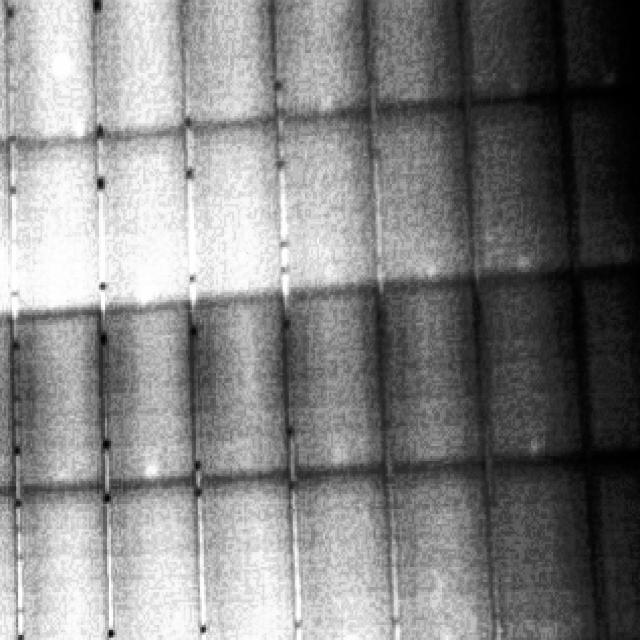Hotspots: (0, 237, 8, 270)
PV-modules: (474, 264, 596, 458), (378, 272, 494, 466), (390, 456, 502, 640), (288, 288, 396, 475), (283, 107, 391, 290), (186, 300, 290, 482), (297, 466, 404, 640), (190, 128, 290, 307), (105, 308, 204, 485), (102, 132, 199, 308), (194, 471, 295, 640), (109, 476, 208, 640), (14, 314, 107, 488), (11, 149, 104, 320), (16, 478, 109, 640), (563, 83, 640, 272), (87, 4, 189, 137), (575, 257, 640, 454), (272, 2, 383, 116), (591, 445, 640, 637), (0, 491, 22, 640), (0, 320, 18, 491), (0, 151, 14, 320), (495, 632, 636, 640), (402, 637, 523, 640)
